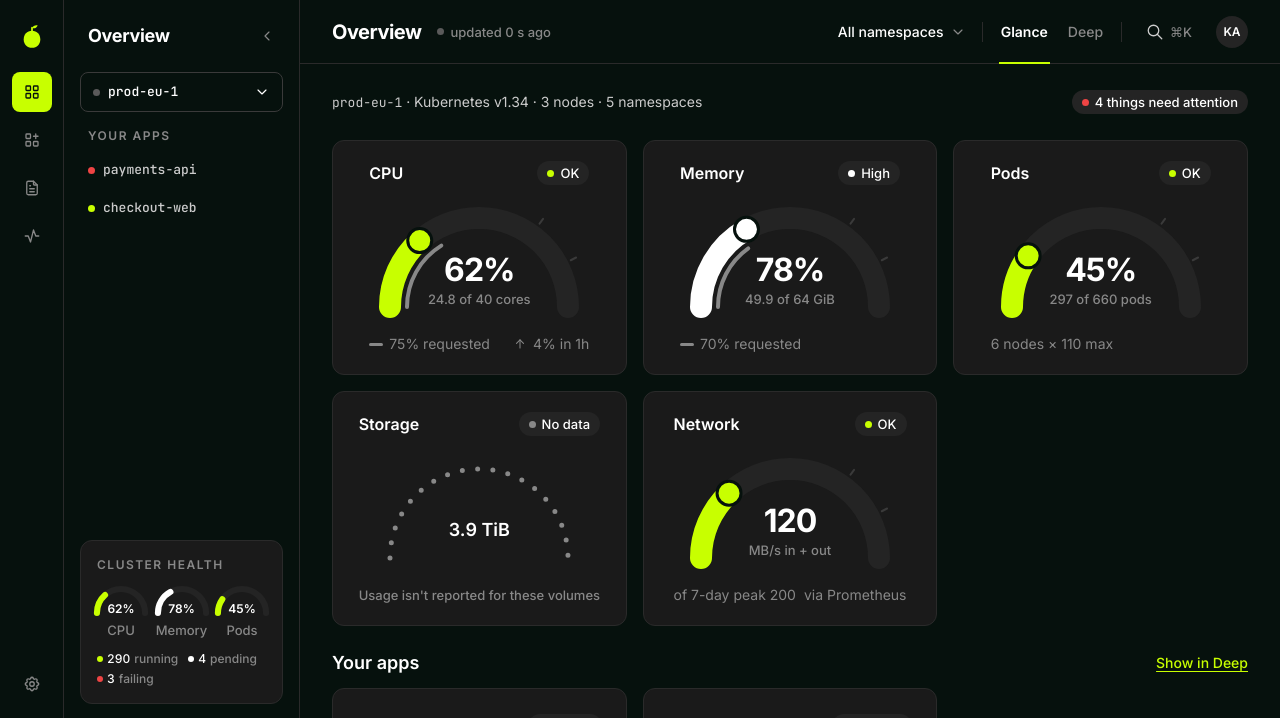
Test: Overview (Glance) › Show in Deep switches mode
This screenshot has width=1280, height=718.
Click the button "Show in Deep" at [1202, 663], box [1156,653,1248,673]
(page scrolled)
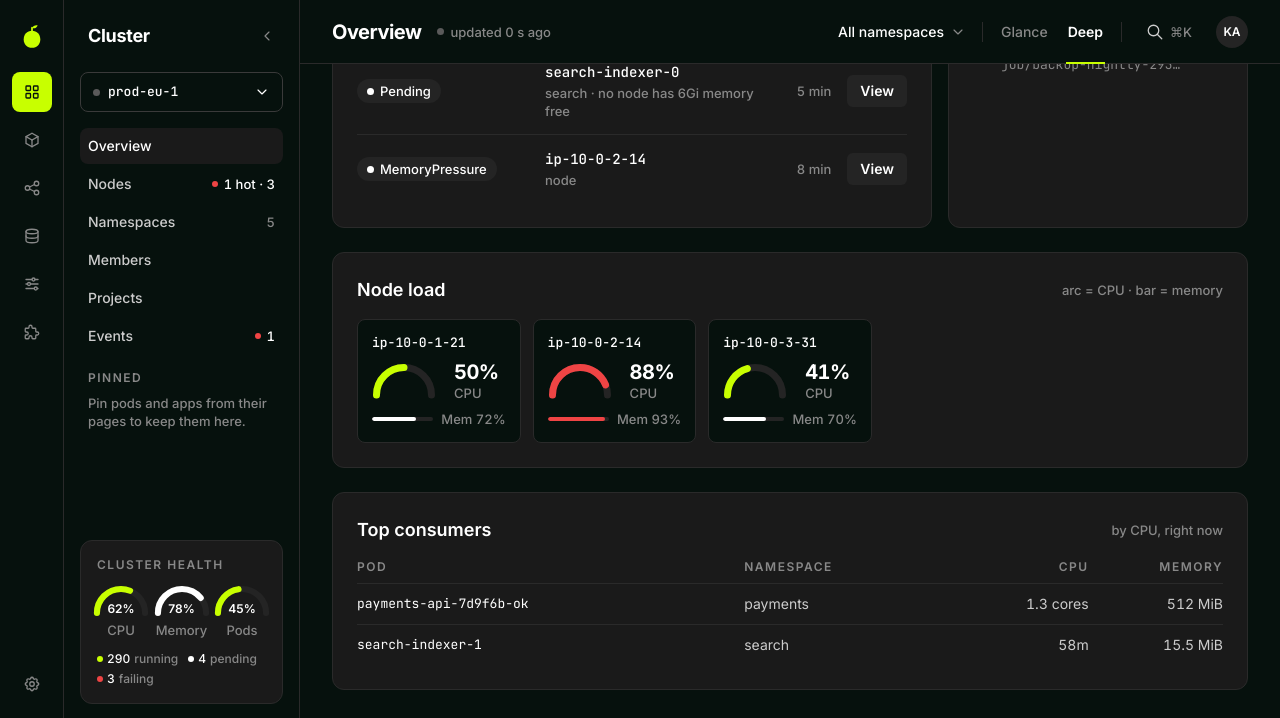
expect the element "Node load" is shown: met, box [332,252,1248,468]
